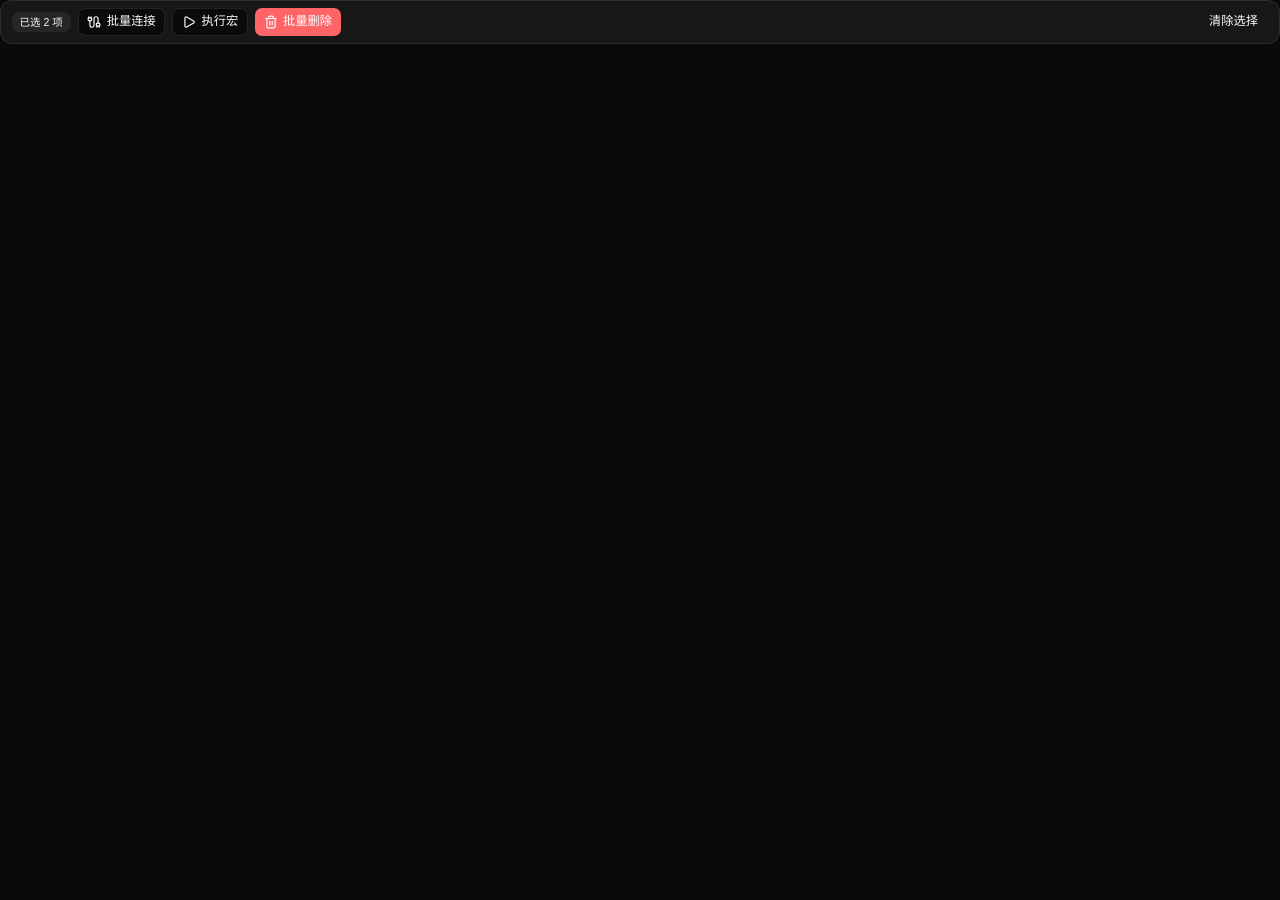
Test case: SessionBatchActions › confirms batch delete with impact and reports results
Click the button "批量删除" at (298, 22), box [255,8,341,36]
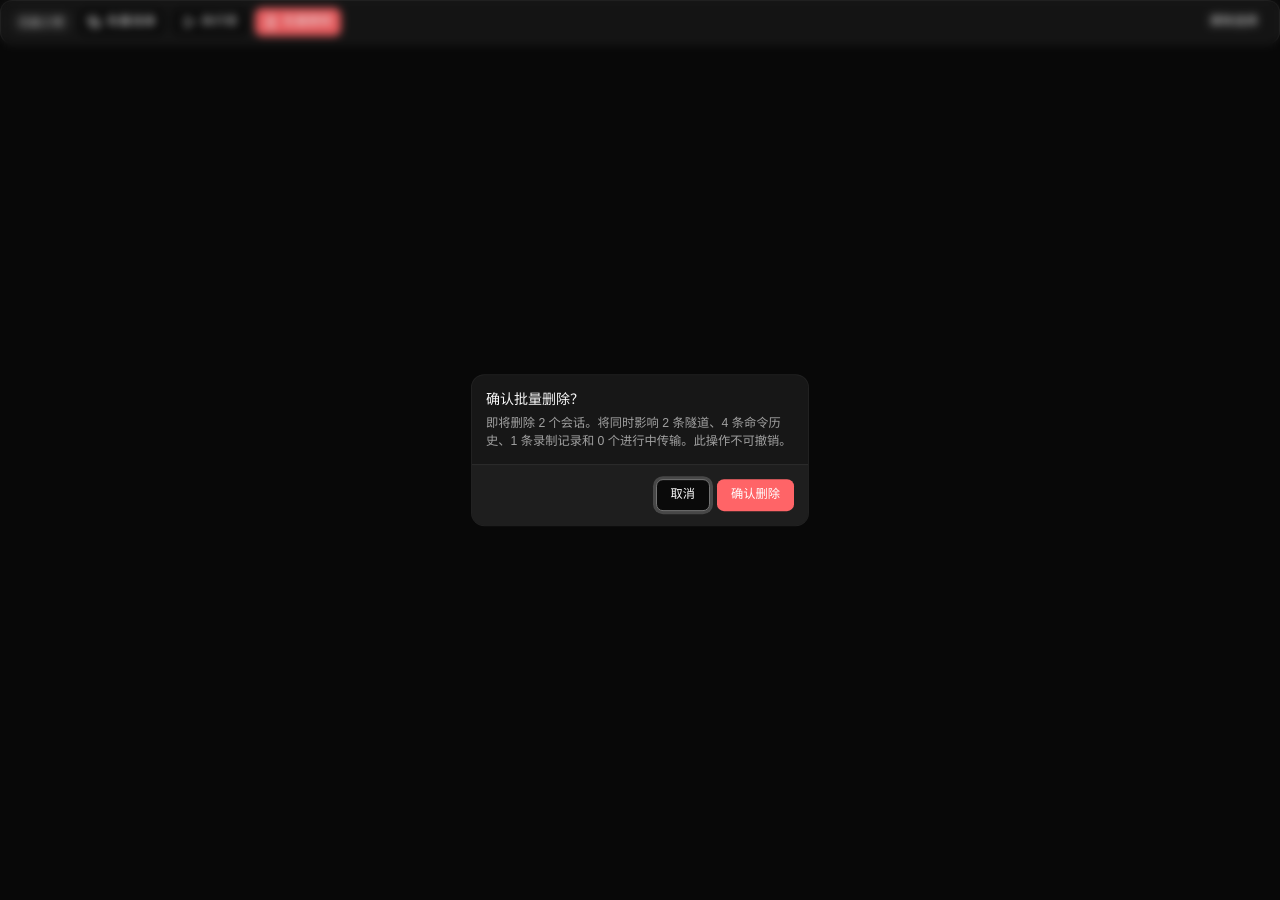
Expected: the dialog shows "确认批量删除？", [486,391,584,407]
Expected: the dialog shows "2 条隧道", [486,416,792,448]
Click the button "确认删除" at (756, 495), box [717,479,794,511]
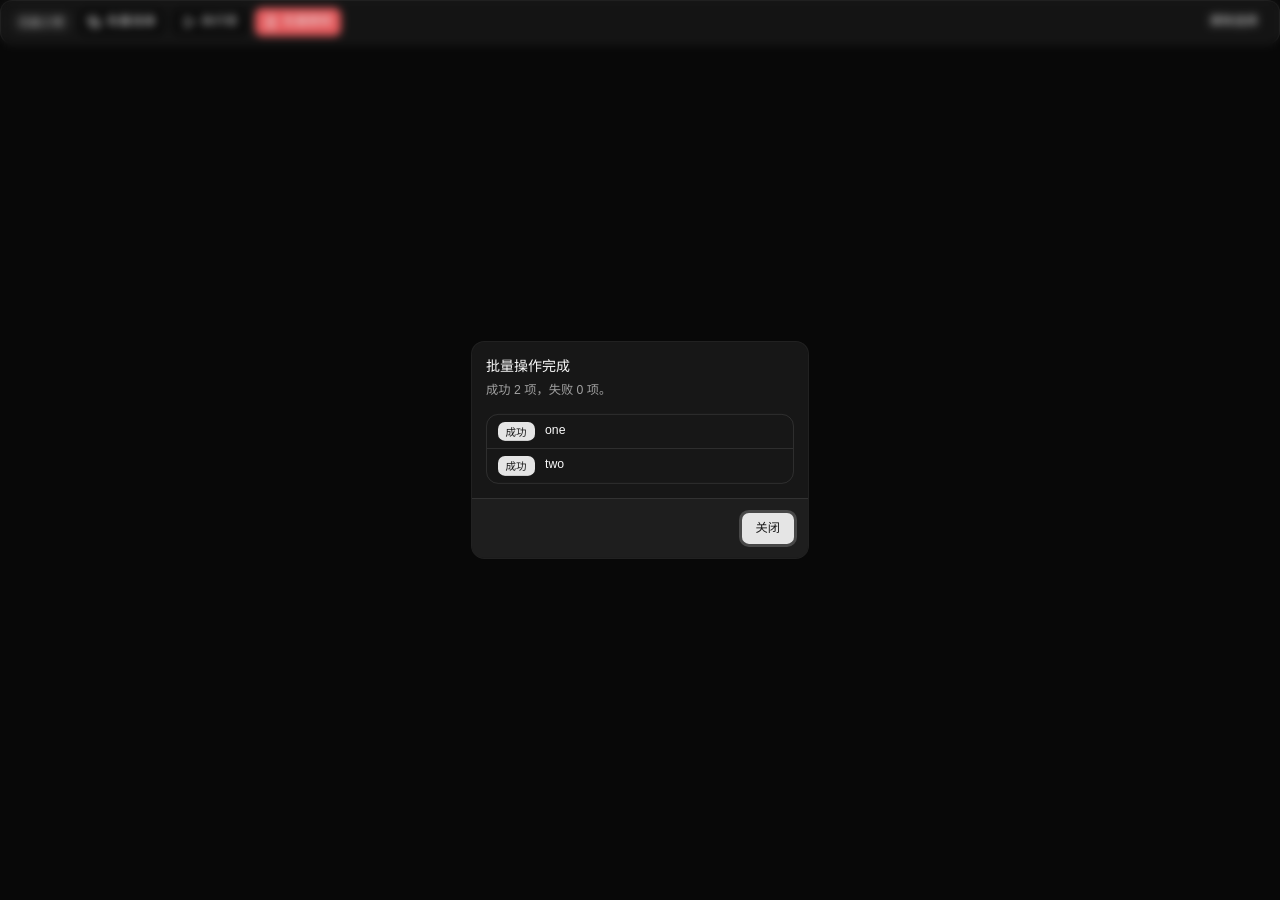
Expected: the text "成功 2 项，失败 0 项。" is shown, [486,382,611,400]
